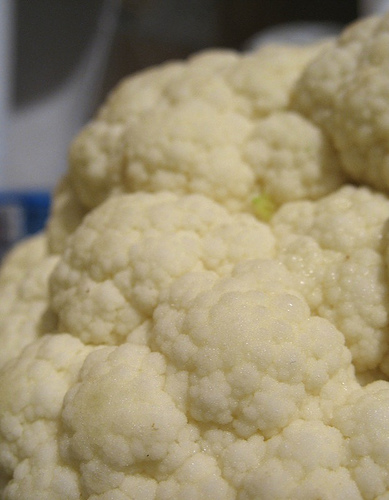cauliflower: (0, 5, 387, 498)
